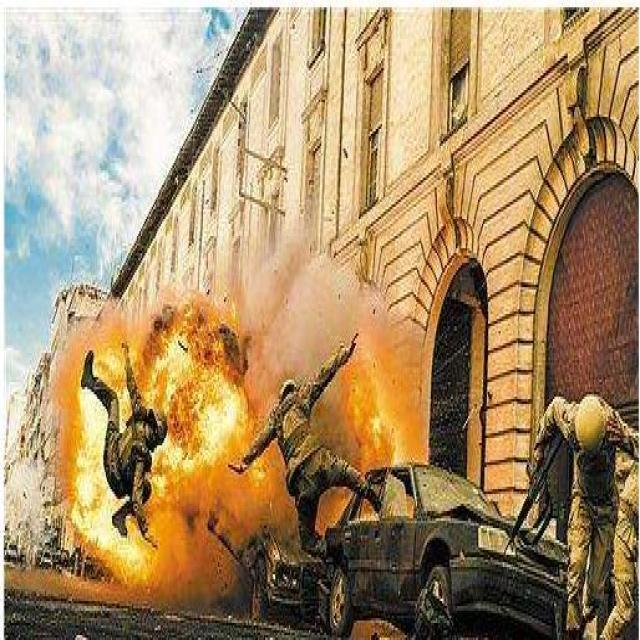fire: (44, 276, 416, 599)
